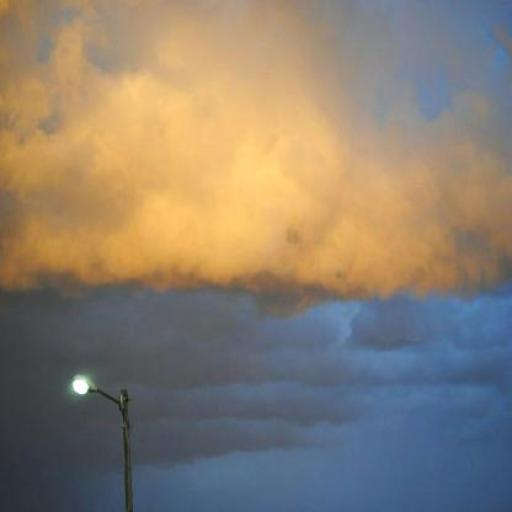street light: (72, 374, 134, 512)
